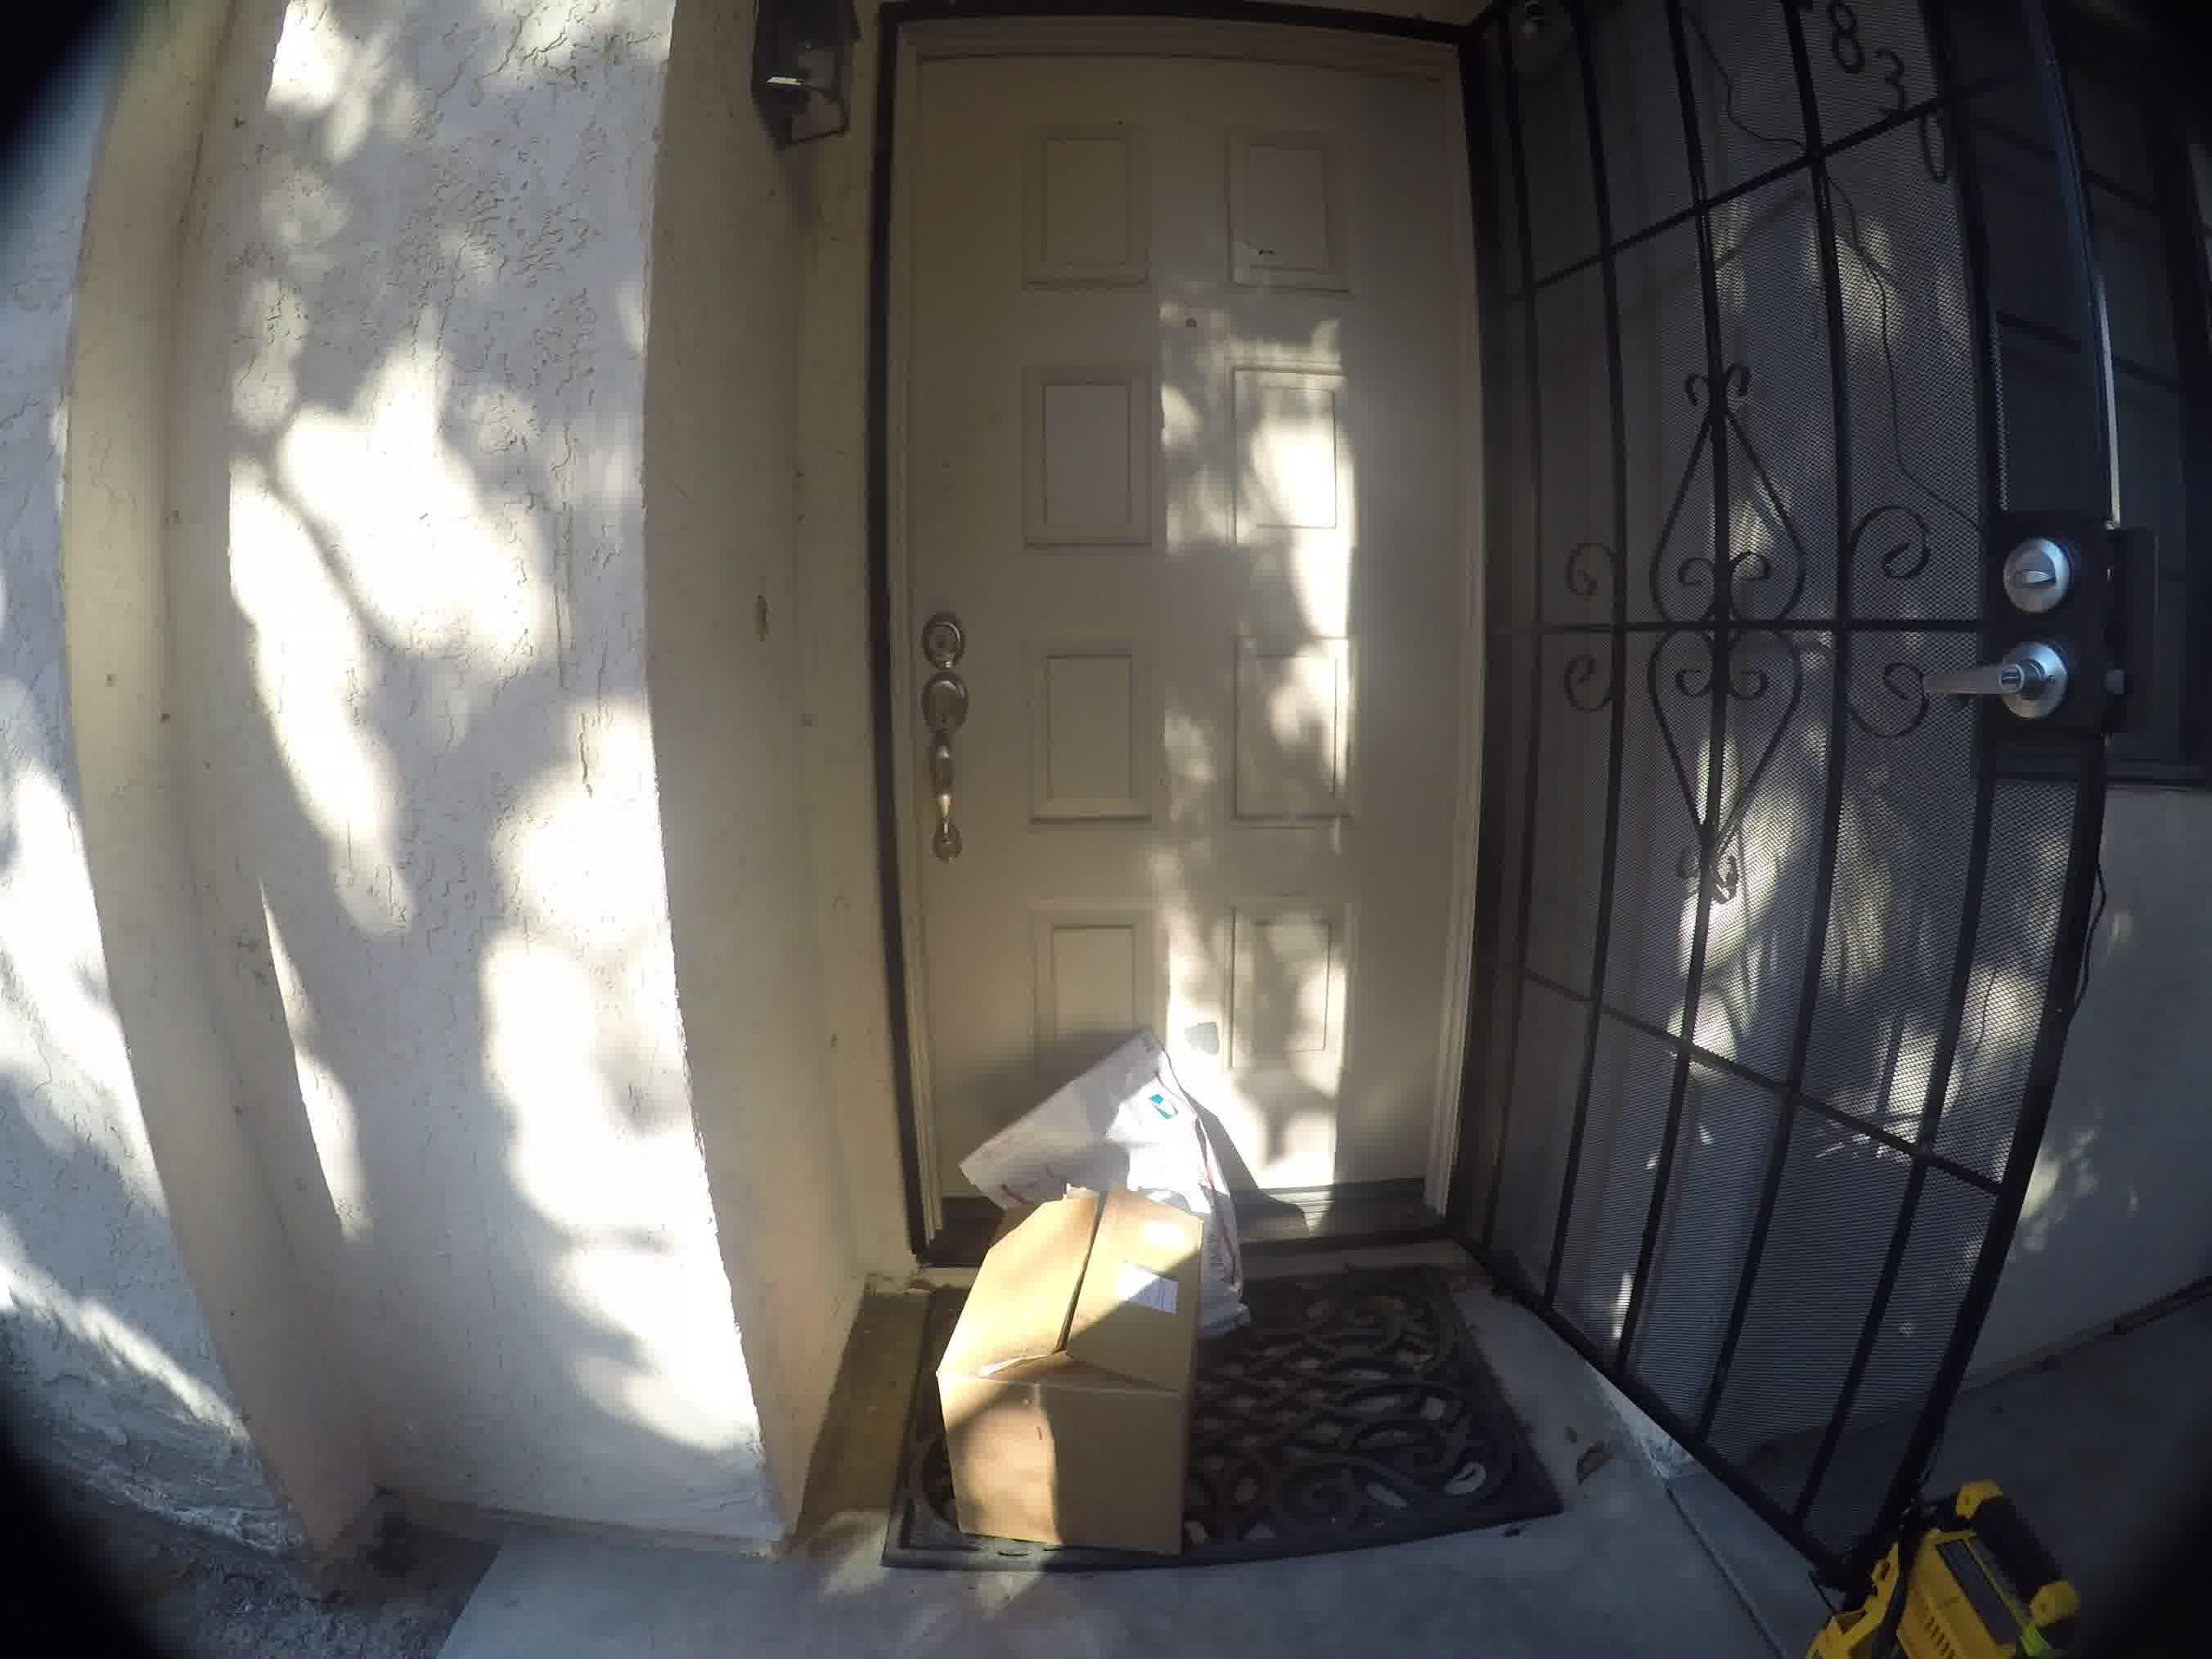box: (963, 1211, 1226, 1565)
plastic_bag: (960, 1026, 1268, 1182)
